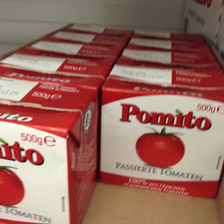tomato_sauce: (98, 60, 224, 200), (1, 72, 99, 223)
